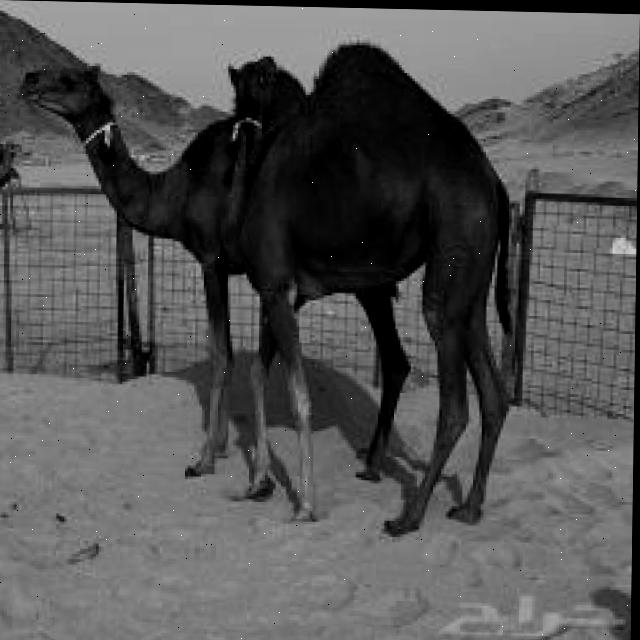Camel: (12, 56, 415, 481), (216, 37, 517, 537)
